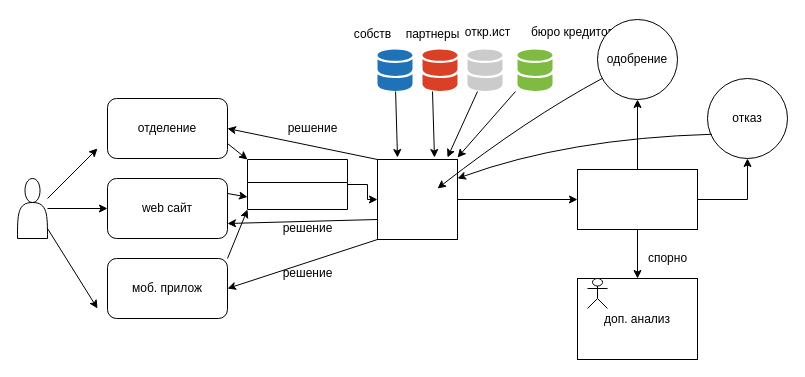
The diagram is 805 pixels wide and 377 high, and some of its shapes have lost their labels. Each missing label, with the centre of its shape:
"блок приняия решения" goes at [417,199].
"завяление" goes at [297,184].
"оценка модели" goes at [637,199].
